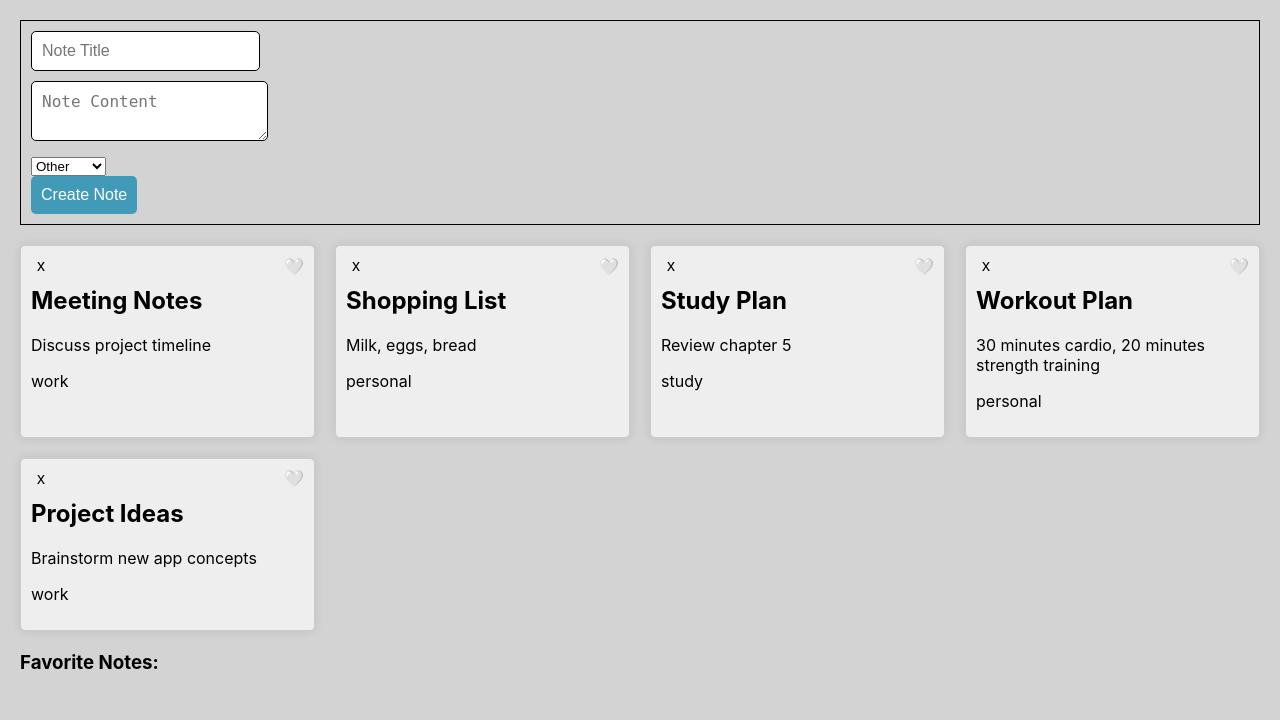
Scenario: StickyNotes › deletes a note
The width and height of the screenshot is (1280, 720).
Click the button with test id "delete-note-1" at (41, 266), box [31,256,51,276]
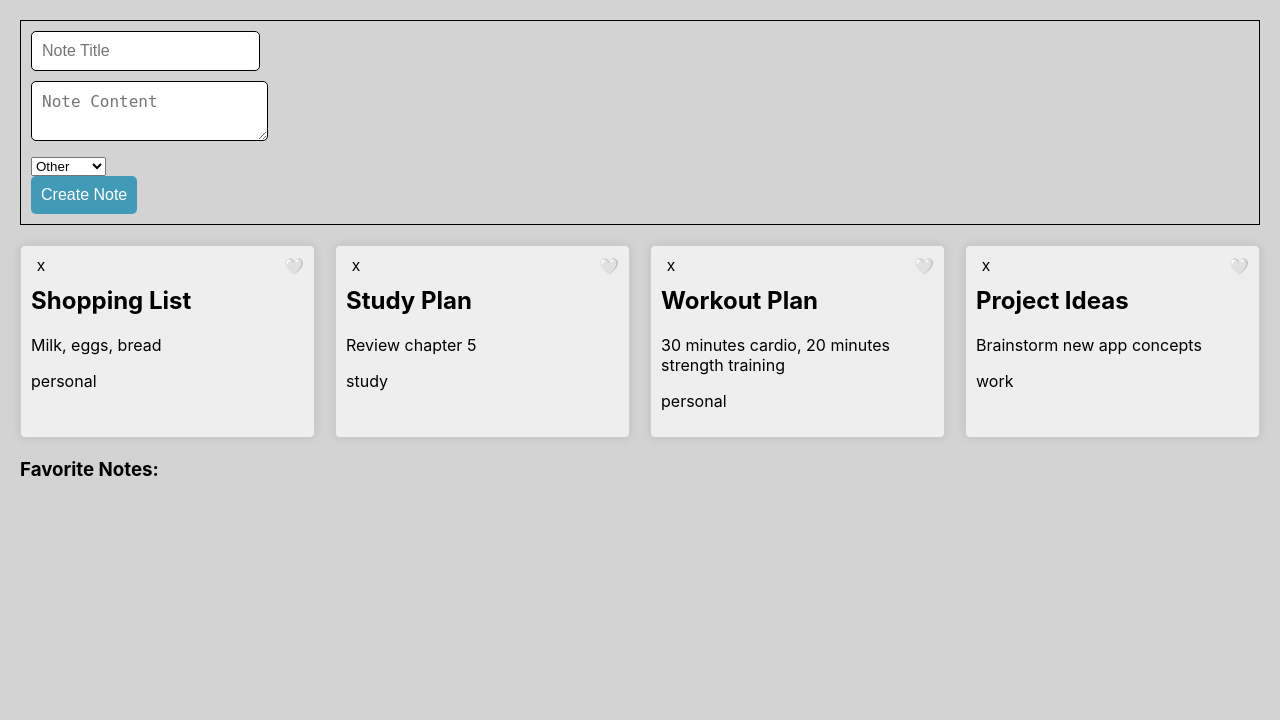
Expected: the element with test id "note-item-1" is gone
